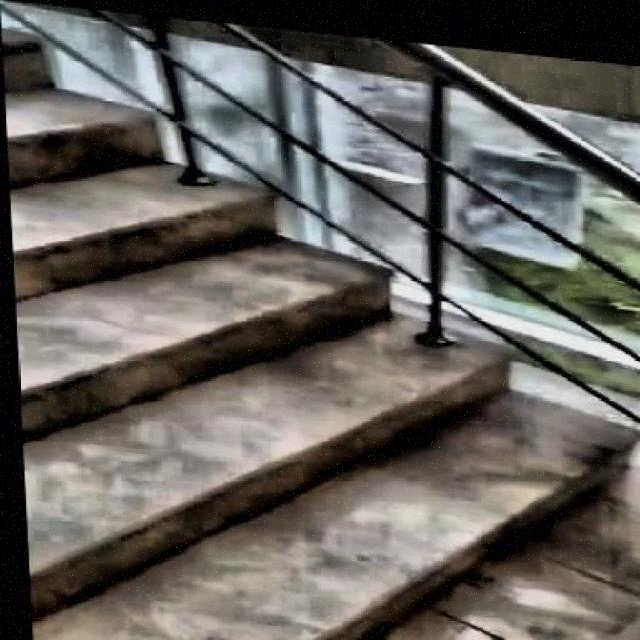stair: (0, 6, 638, 638)
